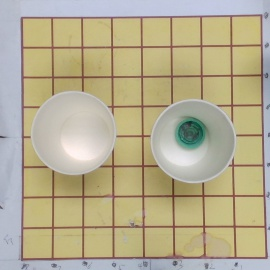cup: (31, 91, 117, 177)
cup_green: (150, 99, 237, 185)
